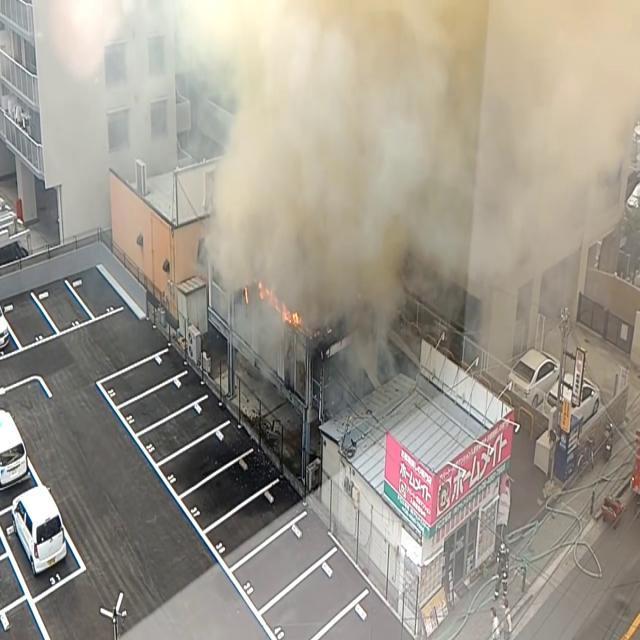Smoke: (199, 0, 640, 361)
